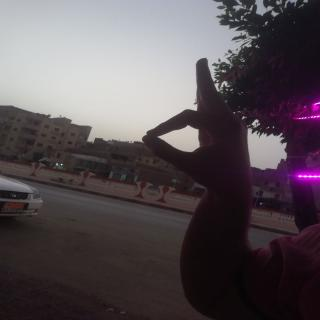Space: (135, 57, 251, 195)
